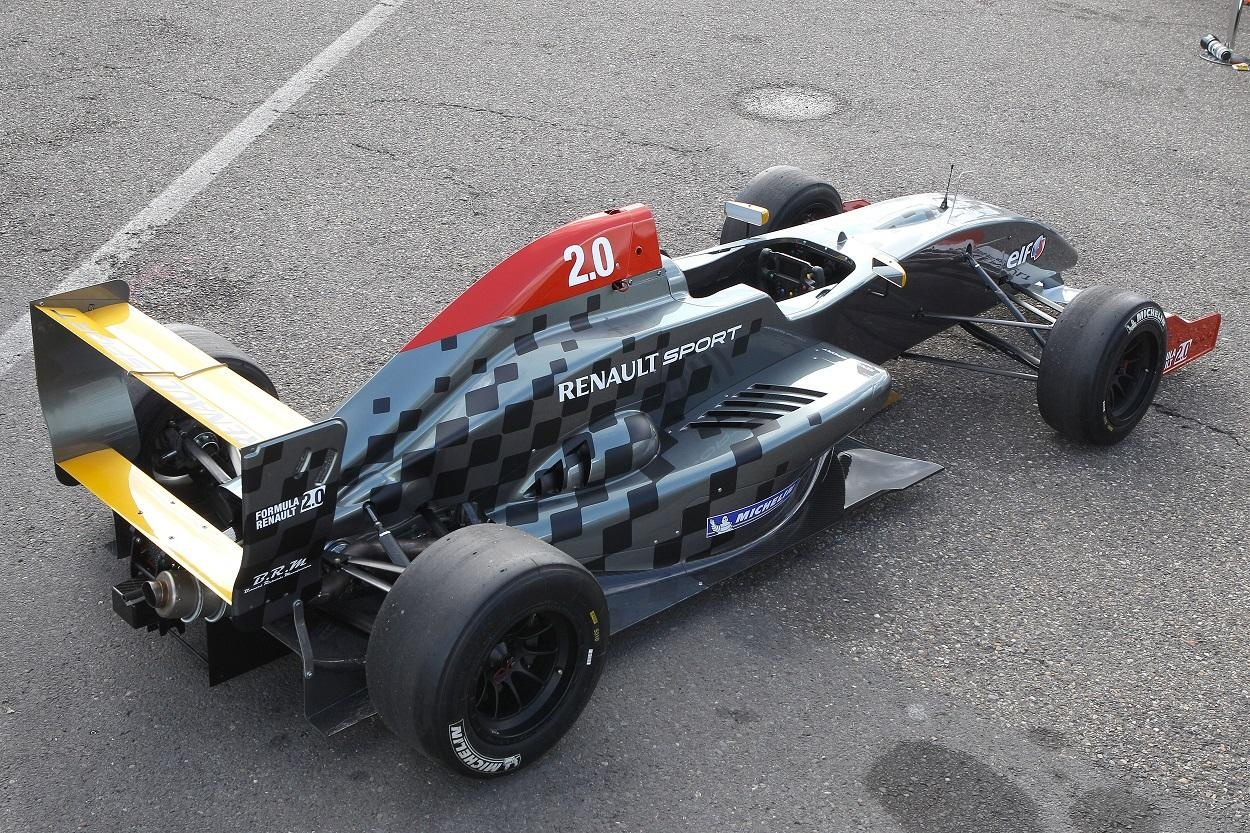racing car: (57, 149, 1180, 763)
